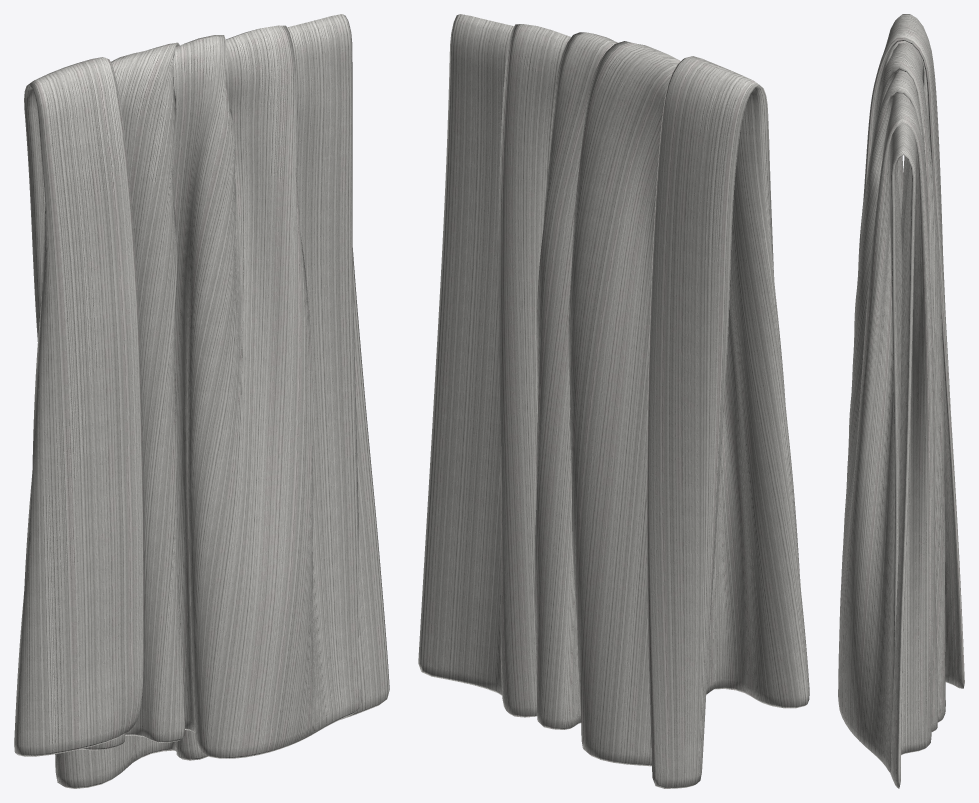
File: towel.glb
The picture shows the model from 3 angles, left to right: view 1: azimuth 30°, elevation 25°; view 2: azimuth 150°, elevation 25°; view 3: azimuth 270°, elevation 25°; orthographic projection. The views are drawn at different scales.
Parts seen in each view (by area): view 1: Material2.502; view 2: Material2.502; view 3: Material2.502.
Part boxes in pixels (<box>): Material2.502: <box>14,14,389,788</box>; Material2.502: <box>418,14,809,788</box>; Material2.502: <box>838,14,964,788</box>.
Bounding box in the file's own units: 0.3447 × 0.6213 × 0.1088.
Materials: 1 (1 with a texture image).
